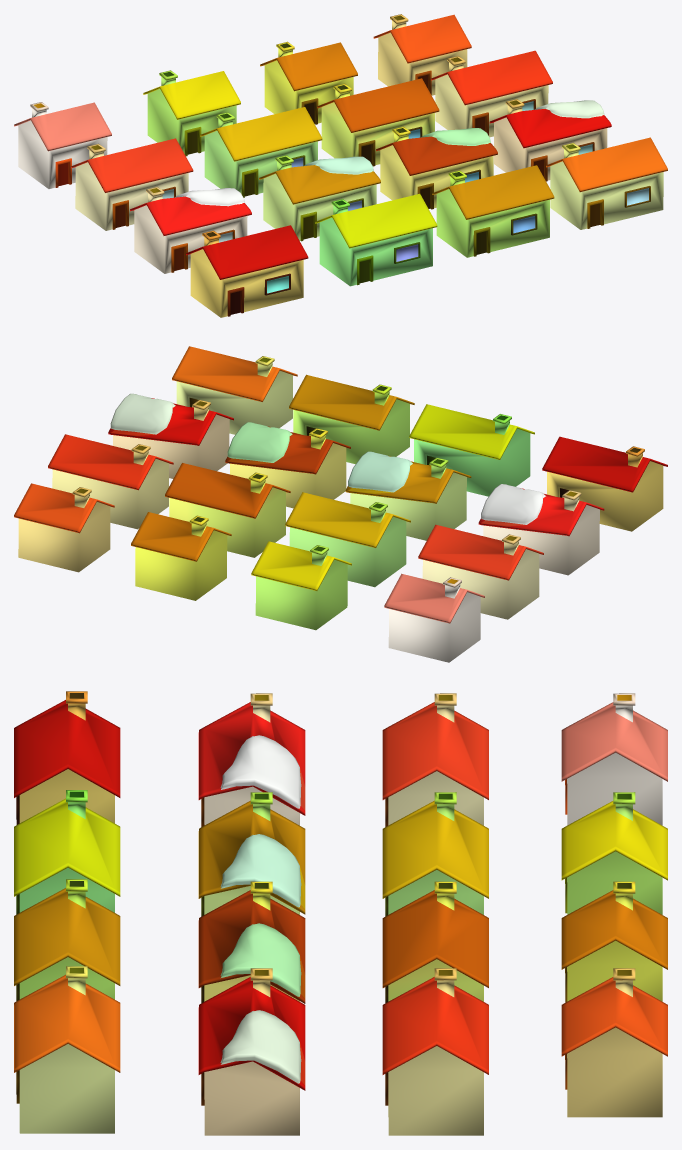
The model's file is Houses.fbx.
3 views of the same model, one above another, from view 1: azimuth 30°, elevation 25°; view 2: azimuth 150°, elevation 25°; view 3: azimuth 270°, elevation 25° (orthographic). The views are drawn at different scales.
Visible parts, largest first — view 1: House_004, House_005, House_015, House_016, House_002, House_007, House_003, House_012, House_006, House_011, House_014, House_013 (+4 smaller); view 2: House_004, House_002, House_007, House_005, House_003, House_012, House_011, House_015, House_006, House_016, House_014, House_013 (+4 smaller); view 3: House_013, House_011, House_016, House_010, House_003, House_002, House_004, House_001, House_006, House_007, House_005, House_014 (+4 smaller).
Part boxes in pixels (bbox=[...]): House_004: bbox=[186, 225, 308, 317]; House_005: bbox=[315, 193, 437, 286]; House_015: bbox=[432, 165, 554, 257]; House_016: bbox=[546, 137, 667, 229]; House_002: bbox=[71, 138, 193, 230]; House_007: bbox=[200, 107, 322, 197]; House_003: bbox=[130, 186, 251, 273]; House_012: bbox=[317, 78, 439, 166]; House_006: bbox=[259, 155, 380, 241]; House_011: bbox=[431, 50, 552, 137]; House_014: bbox=[376, 126, 497, 209]; House_013: bbox=[489, 99, 611, 181]; House_004: bbox=[542, 436, 667, 531]; House_002: bbox=[418, 524, 543, 619]; House_007: bbox=[285, 492, 410, 587]; House_005: bbox=[409, 404, 534, 496]; House_003: bbox=[478, 484, 604, 575]; House_012: bbox=[165, 463, 290, 557]; House_011: bbox=[48, 434, 173, 529]; House_015: bbox=[289, 374, 414, 464]; House_006: bbox=[345, 451, 471, 540]; House_016: bbox=[172, 346, 297, 434]; House_014: bbox=[225, 422, 350, 508]; House_013: bbox=[108, 393, 233, 478]; House_013: bbox=[198, 968, 305, 1135]; House_011: bbox=[382, 968, 488, 1135]; House_016: bbox=[14, 966, 120, 1133]; House_010: bbox=[561, 968, 667, 1117]; House_003: bbox=[198, 693, 305, 826]; House_002: bbox=[382, 693, 488, 826]; House_004: bbox=[14, 691, 120, 824]; House_001: bbox=[561, 693, 667, 825]; House_006: bbox=[198, 792, 305, 916]; House_007: bbox=[382, 792, 488, 916]; House_005: bbox=[14, 790, 120, 914]; House_014: bbox=[198, 881, 305, 1003].
Bounding box in the file's own units: 85.26 × 12.26 × 68.25.
